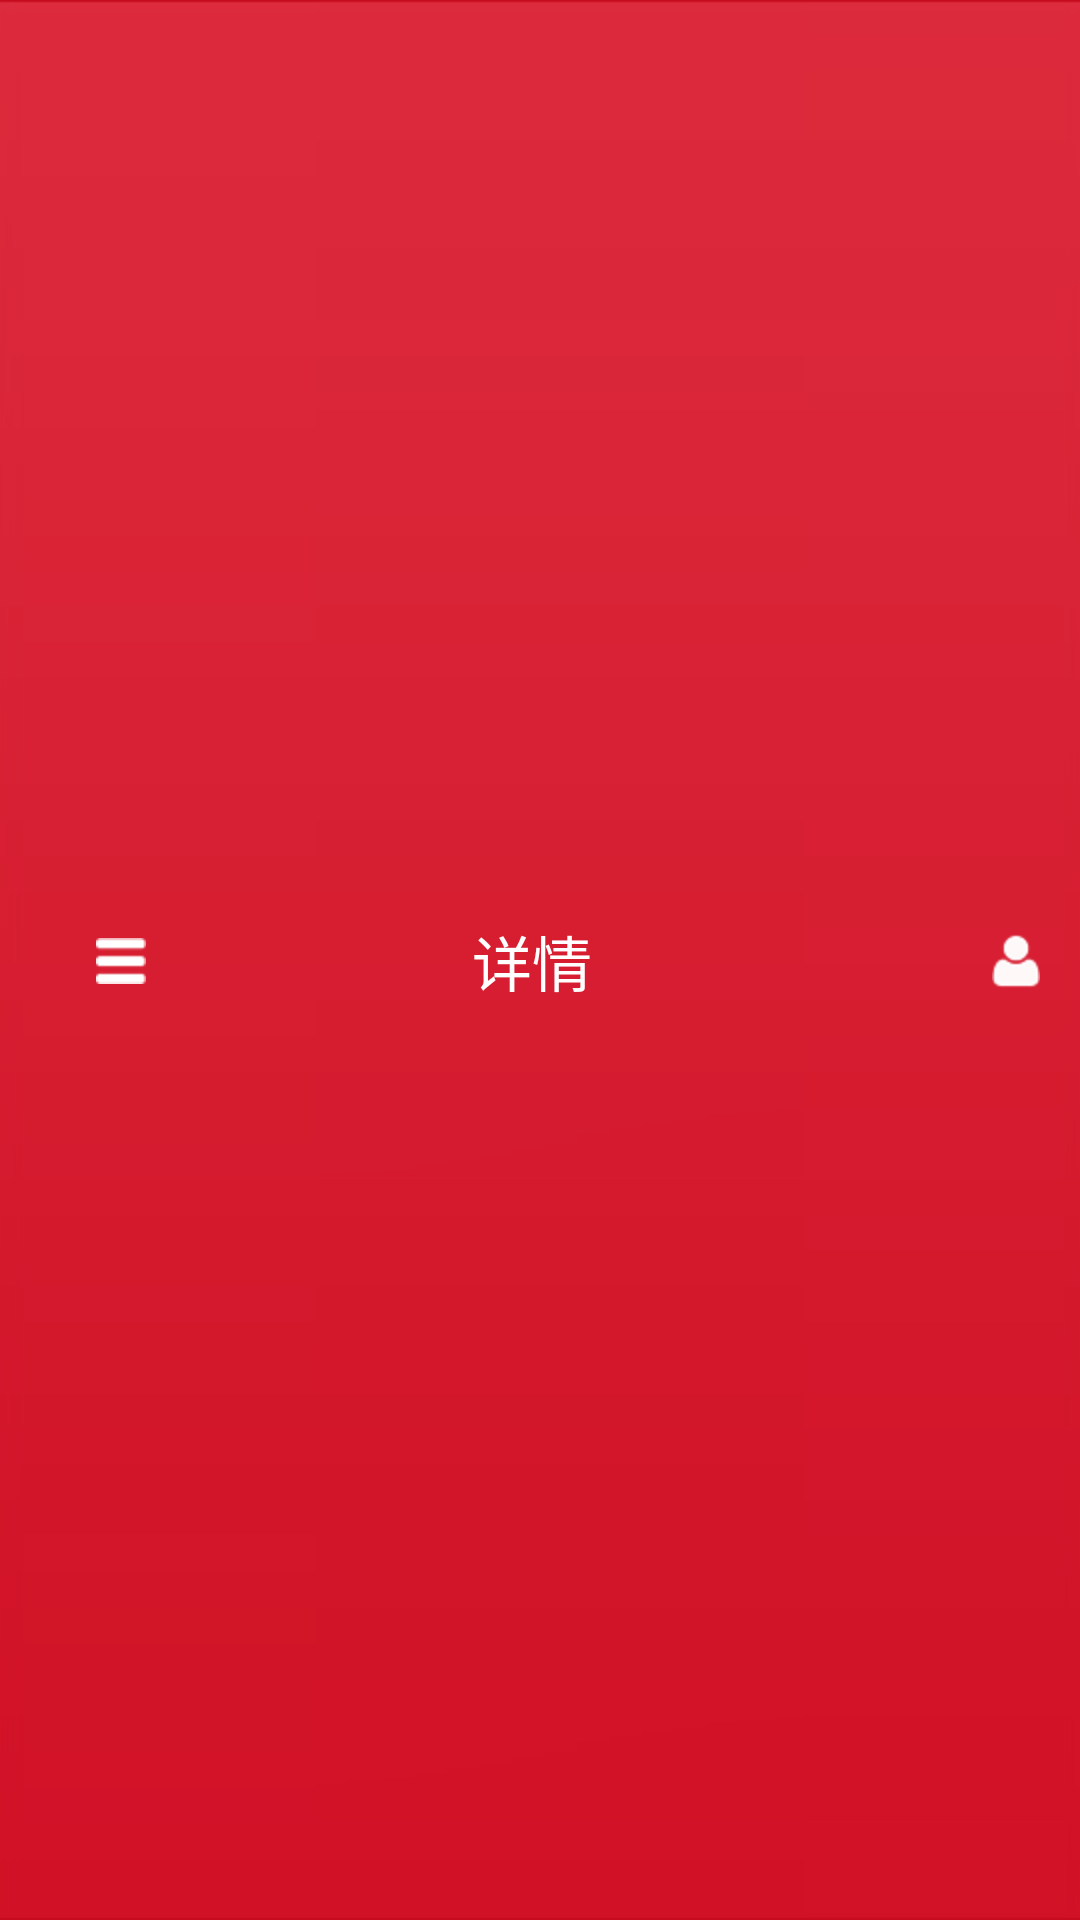

Screen size 1080*1920. Icon name, then its box in pixels as (x1, y1, x2, y2):
user: (992, 935, 1040, 987)
